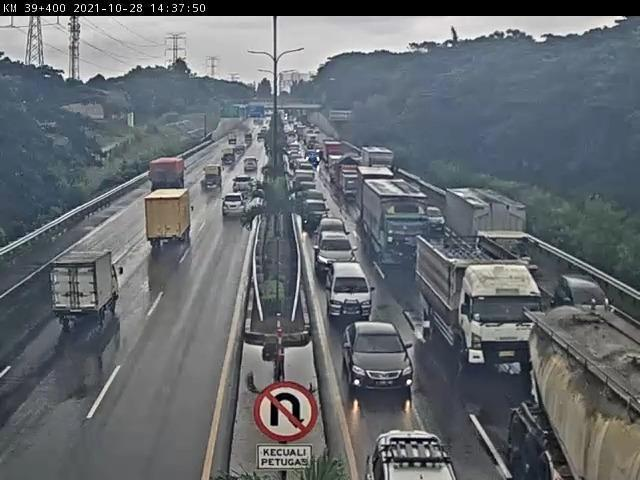bus: (328, 266, 387, 321)
car: (345, 323, 434, 408), (367, 415, 471, 480), (550, 268, 628, 331), (313, 230, 359, 273), (219, 192, 260, 224), (320, 210, 347, 245), (305, 200, 334, 230), (216, 151, 243, 173), (234, 173, 260, 195), (301, 188, 329, 206), (298, 183, 321, 200), (246, 157, 265, 174)
truck: (511, 295, 640, 480), (411, 230, 543, 376), (444, 182, 547, 269), (359, 175, 452, 268), (45, 241, 126, 327), (134, 138, 198, 205), (141, 187, 199, 253), (335, 159, 367, 204), (203, 164, 232, 200)
